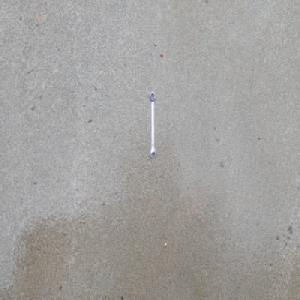Wrench: (149, 90, 157, 160)
